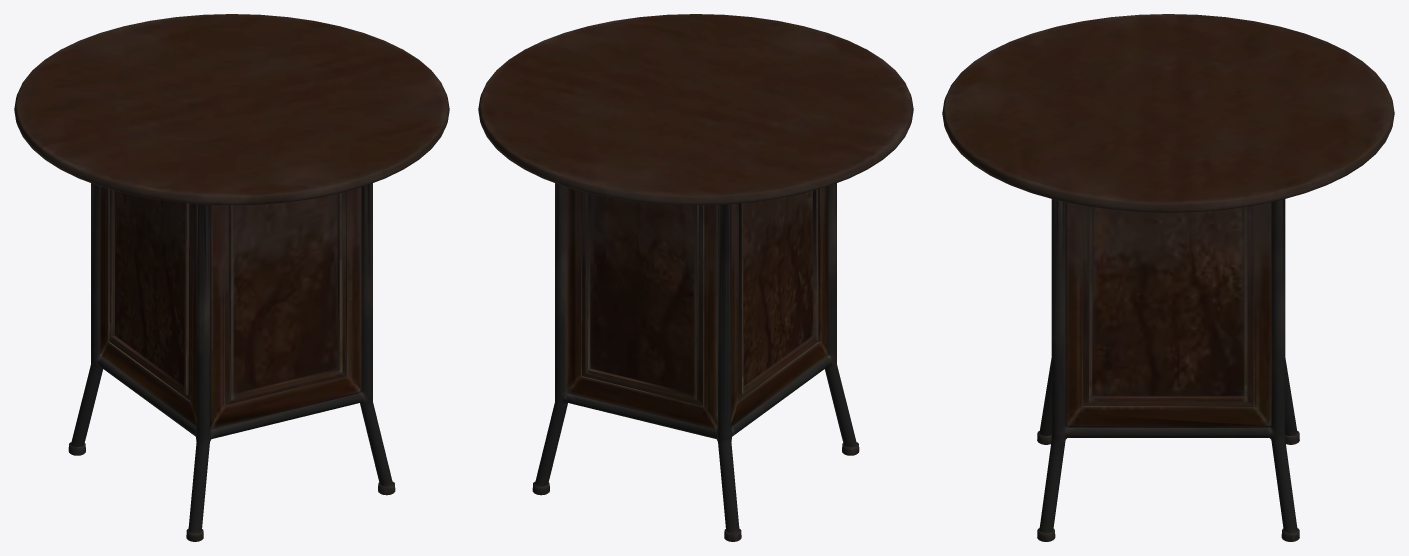
The model's file is dining-round-2.glb.
3 views of the same model, side by side, from view 1: azimuth 30°, elevation 25°; view 2: azimuth 150°, elevation 25°; view 3: azimuth 270°, elevation 25° (orthographic). The views are drawn at different scales.
Parts seen in each view (by area): view 1: round_wooden_table_02; view 2: round_wooden_table_02; view 3: round_wooden_table_02.
Part boxes in pixels (x1,y1,x2,y2): round_wooden_table_02: (14,14,449,541); round_wooden_table_02: (478,14,913,541); round_wooden_table_02: (942,14,1394,541).
Bounding box in the file's own units: 0.8 × 0.7449 × 0.8.
Materials: 1 (1 with a texture image).
